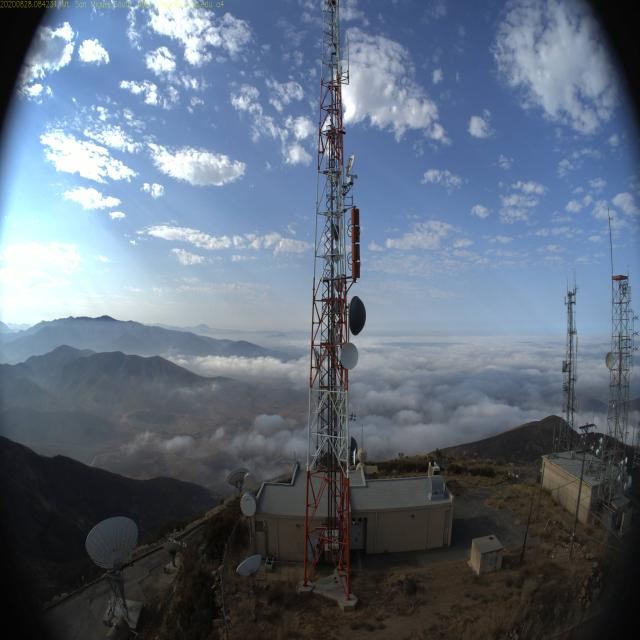smoke: (158, 330, 182, 367)
